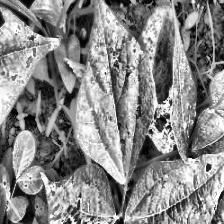ALS: (75, 0, 154, 184), (127, 136, 224, 224), (0, 0, 55, 152), (42, 164, 118, 224)
